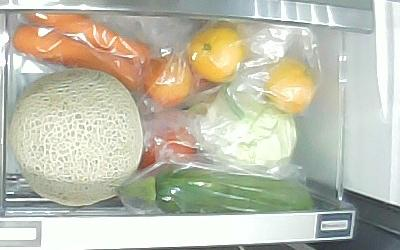cabbage: (201, 91, 297, 170)
carrot_vinyl: (12, 23, 145, 88), (23, 12, 153, 63)
melon: (8, 68, 144, 207)
prune_vinyl: (147, 55, 194, 109)
tangerine_vinyl: (187, 25, 245, 84), (265, 59, 315, 115)
tomato_vinyl: (138, 125, 197, 173)
zucchini_vinyl: (117, 168, 314, 213)
